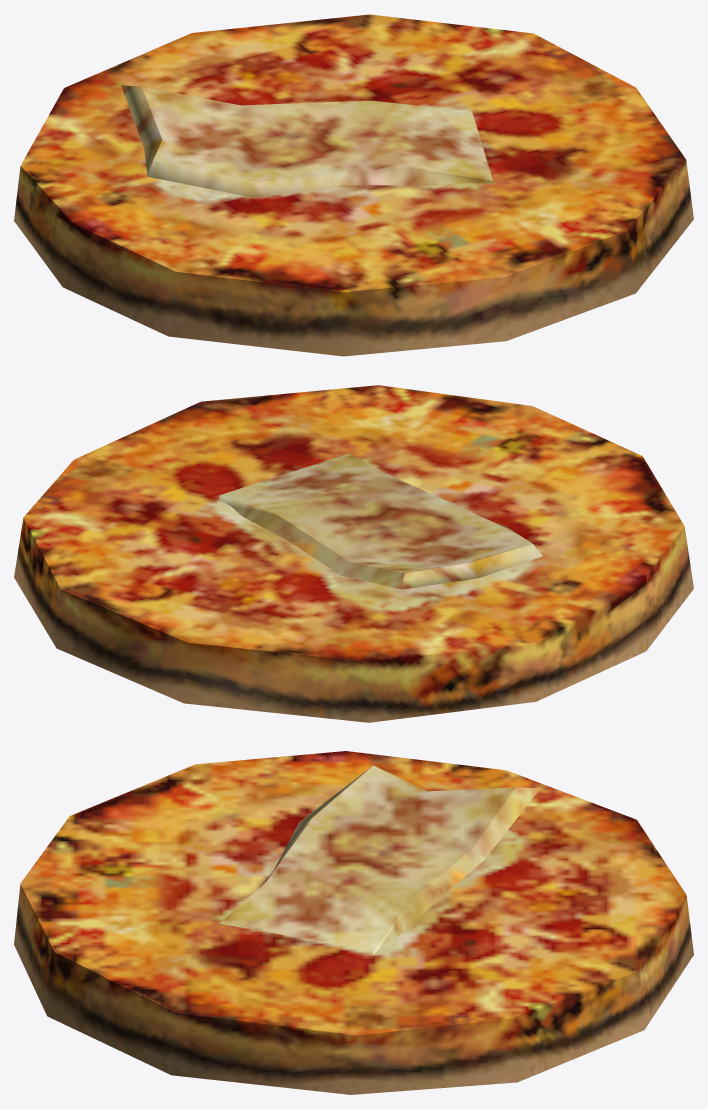
File: edb_food_pizza_s1_l1.fbx
The picture shows the model from 3 angles, top to bottom: view 1: azimuth 30°, elevation 25°; view 2: azimuth 150°, elevation 25°; view 3: azimuth 270°, elevation 25°; orthographic projection. The views are drawn at different scales.
Parts seen in each view (by area): view 1: mesh_node; view 2: mesh_node; view 3: mesh_node.
Boxes of the visible parts, box(x1,y1,x2,y2) form: mesh_node: box(14, 14, 693, 356); mesh_node: box(14, 385, 693, 722); mesh_node: box(14, 751, 693, 1094).
Size of the model in its own units: 0.3482 by 0.061 by 0.3494.
1 material, 1 textured.
